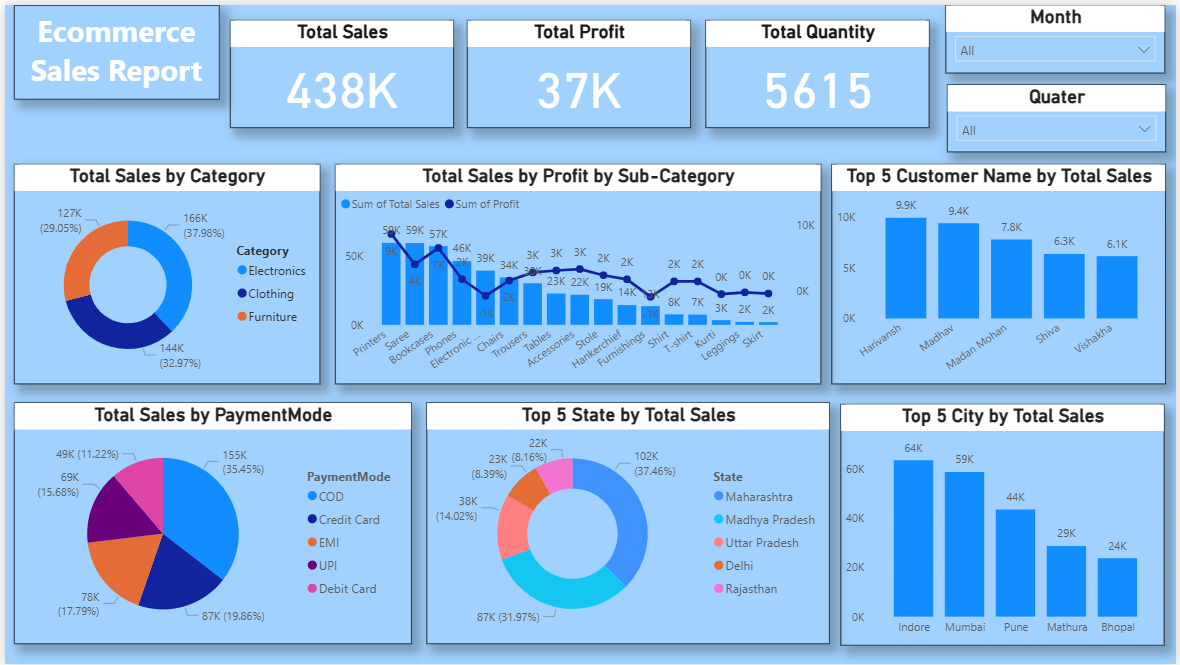

Layout of this report page (visuals, bound fields, positions):
{"tool":"powerbi","page":{"name":"Page 1","canvas":[1280,720],"ordinal":0},"visuals":[{"type":"textbox","box":[9.8,0,224.6,103.3],"z":0},{"type":"card","title":"Total Sales","fields":{"Values":["e commerce dataset (2).Total Sales"]},"box":[246.5,15.9,245,117.7],"z":1000},{"type":"card","title":"Total Profit","fields":{"Values":["e commerce dataset (2).Profit"]},"box":[504.2,15.9,245,117.7],"z":2000},{"type":"card","title":"Total Quantity","fields":{"Values":["e commerce dataset (2).Quantity"]},"box":[765.1,15.9,245,117.7],"z":3000},{"type":"slicer","title":"Month","fields":{"Values":["e commerce dataset.Order Date.Variation.Date Hierarchy.Month"]},"box":[1027.5,0,240.2,74.8],"z":4000},{"type":"slicer","title":"Quater","fields":{"Values":["e commerce dataset.Order Date.Variation.Date Hierarchy.Quarter"]},"box":[1029.5,86.9,239.3,73.8],"z":5000},{"type":"donutChart","title":"Total Sales by Category","fields":{"Y":["e commerce dataset (2).Total Sales"],"Category":["e commerce dataset (2).Category"]},"box":[9.8,173.8,334.4,241],"z":6000},{"type":"lineClusteredColumnComboChart","title":"Total Sales by Profit by Sub-Category","fields":{"Y":["e commerce dataset (2).Total Sales"],"Y2":["e commerce dataset (2).Profit"],"Category":["e commerce dataset (2).Sub-Category"]},"box":[360.7,173.8,531.1,241],"z":7000},{"type":"columnChart","title":"Top 5 Customer Name by Total Sales","fields":{"Category":["e commerce dataset.CustomerName"],"Y":["e commerce dataset (2).Total Sales"]},"box":[903.3,173.8,365.6,241],"z":8000},{"type":"pieChart","title":"Total Sales by PaymentMode","fields":{"Y":["e commerce dataset (2).Total Sales"],"Category":["e commerce dataset (2).PaymentMode"]},"box":[9.8,434.4,434.4,263.9],"z":9000},{"type":"donutChart","title":"Top 5 State by Total Sales","fields":{"Category":["e commerce dataset.State"],"Y":["e commerce dataset (2).Total Sales"]},"box":[460.7,434.4,441,263.9],"z":10000},{"type":"columnChart","title":"Top 5 City by Total Sales","fields":{"Category":["e commerce dataset.City"],"Y":["e commerce dataset (2).Total Sales"]},"box":[913.1,436.1,354.1,263.9],"z":11000}]}

Visuals, with their boxes in screenshot pixels (x1, y1, x2, y2), scaled from the page's 1280x720 canvas onto the 1180x665 screenshot:
textbox: bbox=(9, 0, 216, 95)
"Total Sales" card: bbox=(227, 15, 453, 123)
"Total Profit" card: bbox=(465, 15, 691, 123)
"Total Quantity" card: bbox=(705, 15, 931, 123)
"Month" slicer: bbox=(947, 0, 1169, 69)
"Quater" slicer: bbox=(949, 80, 1170, 148)
"Total Sales by Category" donutChart: bbox=(9, 161, 317, 383)
"Total Sales by Profit by Sub-Category" lineClusteredColumnComboChart: bbox=(333, 161, 822, 383)
"Top 5 Customer Name by Total Sales" columnChart: bbox=(833, 161, 1170, 383)
"Total Sales by PaymentMode" pieChart: bbox=(9, 401, 409, 645)
"Top 5 State by Total Sales" donutChart: bbox=(425, 401, 831, 645)
"Top 5 City by Total Sales" columnChart: bbox=(842, 403, 1168, 647)
